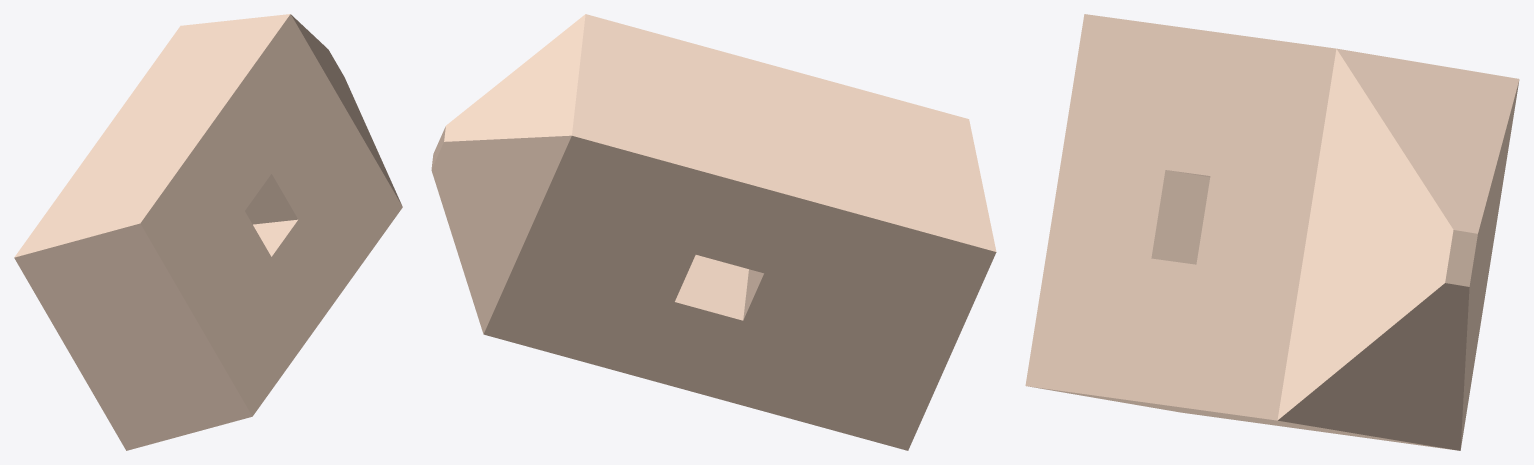
The model's file is Marteau - masselote_Quarts_instance_2.obj.
The picture shows the model from 3 angles, left to right: view 1: azimuth 30°, elevation 25°; view 2: azimuth 150°, elevation 25°; view 3: azimuth 270°, elevation 25°; orthographic projection. The views are drawn at different scales.
Parts seen in each view (by area): view 1: Face_7, Face_8, Face_5, Face_3, Face_11, Face_14; view 2: Face_6, Face_5, Face_1, Face_9, Face_14; view 3: Face_7, Face_3, Face_10, Face_9, Face_13, Face_1, Face_4, Face_2.
Boxes of the visible parts, x1=… form: Face_7: x1=140, y1=14, x2=402, y2=416; Face_8: x1=14, y1=223, x2=252, y2=450; Face_5: x1=14, y1=14, x2=290, y2=257; Face_3: x1=291, y1=14, x2=401, y2=204; Face_11: x1=245, y1=174, x2=297, y2=224; Face_14: x1=253, y1=219, x2=297, y2=256; Face_6: x1=483, y1=136, x2=996, y2=450; Face_5: x1=572, y1=14, x2=996, y2=251; Face_1: x1=431, y1=135, x2=571, y2=333; Face_9: x1=444, y1=14, x2=585, y2=141; Face_14: x1=675, y1=255, x2=748, y2=320; Face_7: x1=1025, y1=14, x2=1336, y2=420; Face_3: x1=1277, y1=49, x2=1453, y2=419; Face_10: x1=1278, y1=283, x2=1469, y2=450; Face_9: x1=1337, y1=48, x2=1519, y2=233; Face_13: x1=1151, y1=170, x2=1210, y2=264; Face_1: x1=1460, y1=80, x2=1519, y2=449; Face_4: x1=1028, y1=386, x2=1457, y2=450; Face_2: x1=1445, y1=230, x2=1477, y2=286.
Size of the model in its own units: 0.0195 by 0.0161 by 0.0138.
